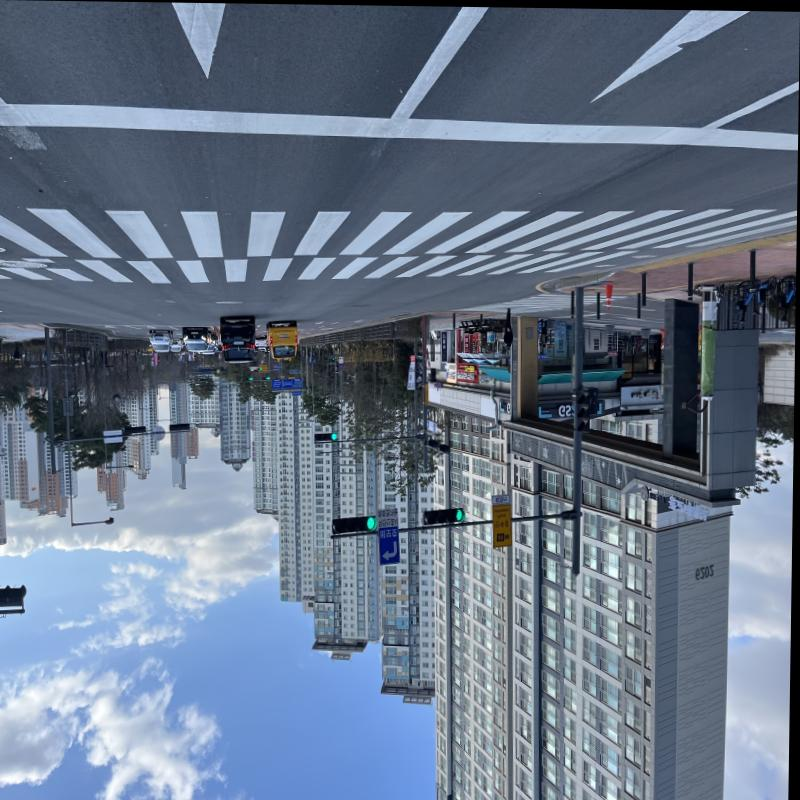green: (367, 515, 378, 529), (457, 508, 465, 520)
